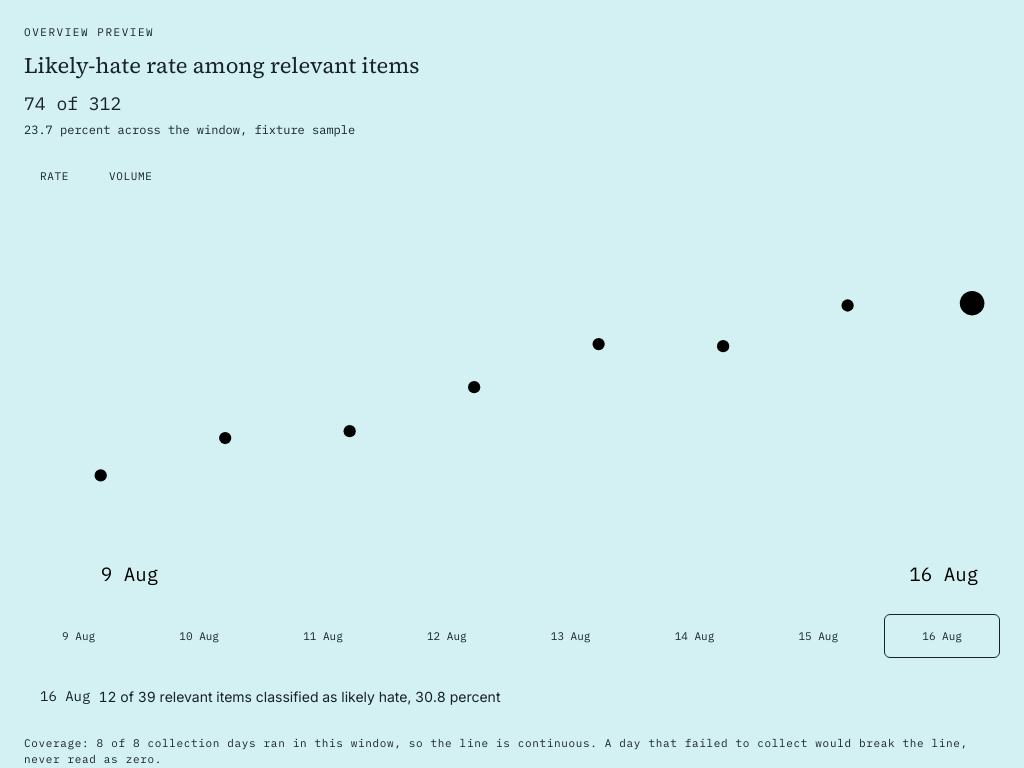
Test: DashboardPreview › reads out the counts behind the day a reader selects
The width and height of the screenshot is (1024, 768).
Expected: the text "12 of 39 relevant items classified as likely hate, 30.8 percent" is shown, x1=40 y1=687 x2=500 y2=705
Click the button "11 Aug".
click(323, 636)  # box x1=265 y1=614 x2=381 y2=658
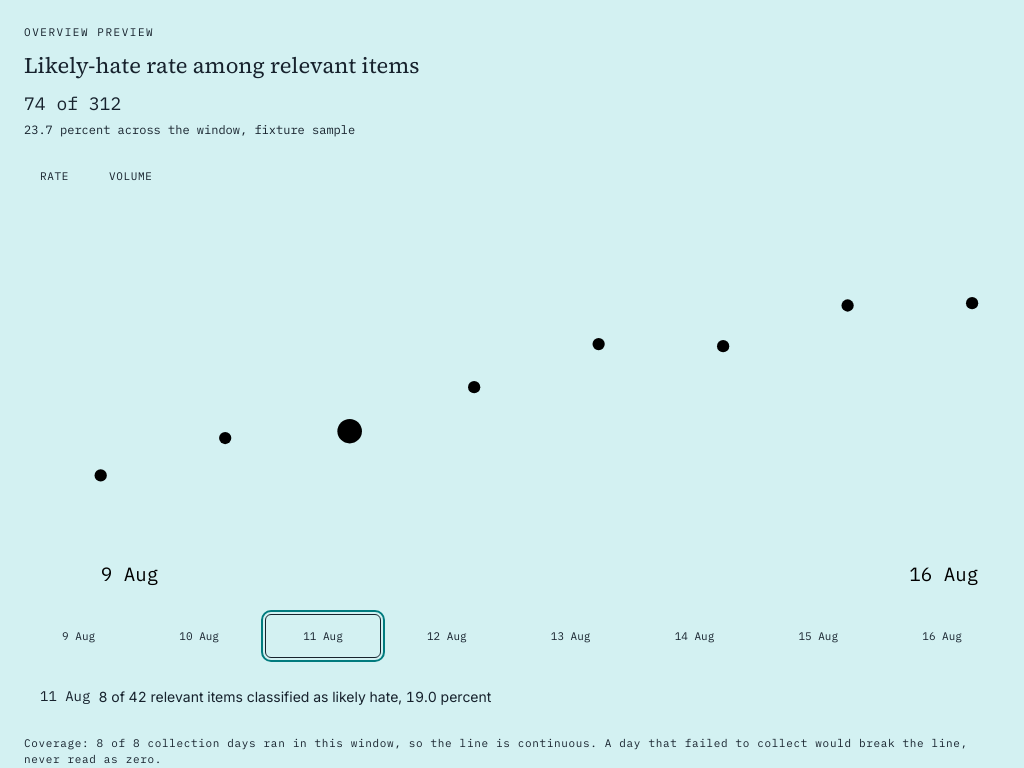
Now the text "8 of 42 relevant items classified as likely hate, 19.0 percent" is shown, box x1=40 y1=687 x2=491 y2=705
